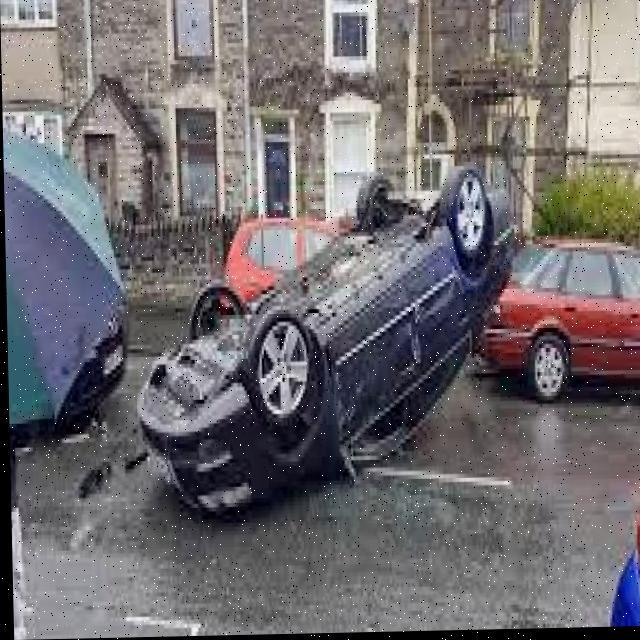single accident: (107, 107, 484, 529)
